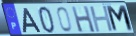0: (56, 6, 75, 34), (38, 6, 56, 35)
A: (22, 8, 42, 33)
H: (89, 5, 116, 34), (70, 6, 97, 34)
M: (105, 5, 135, 33)
